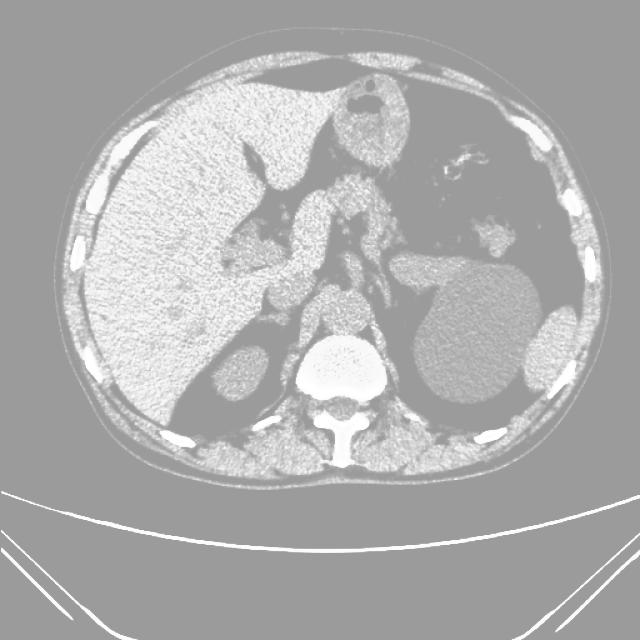cysts: (56, 43, 609, 488)
